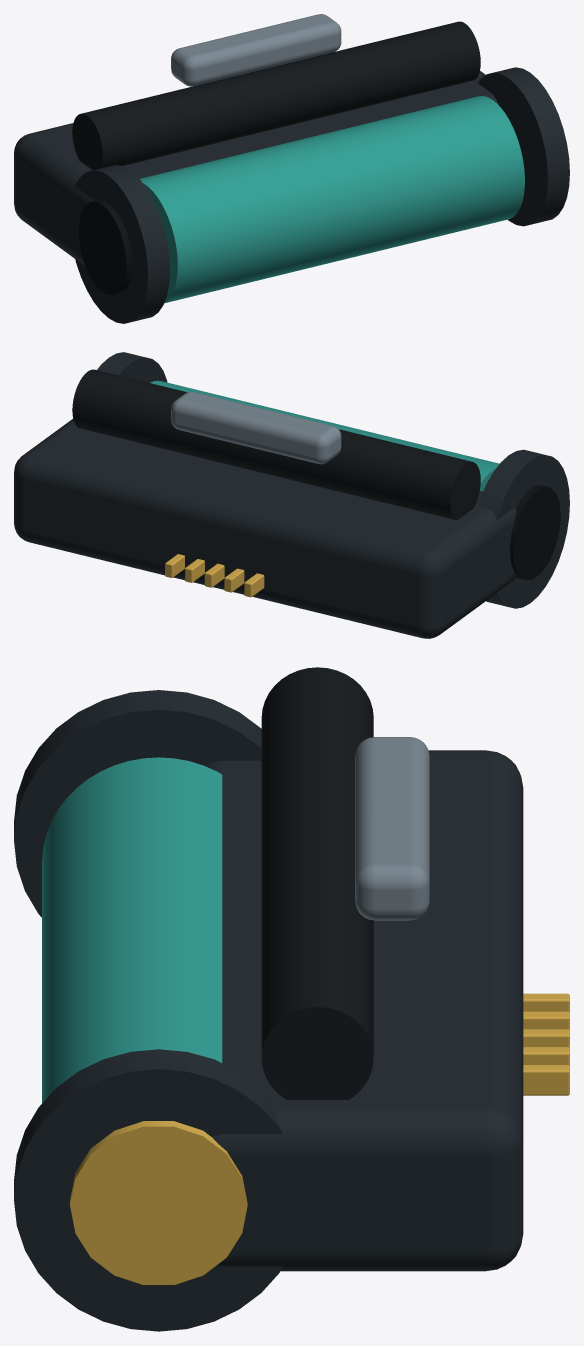
The model's file is printer-drum-unit.glb.
3 views of the same model, one above another, from view 1: azimuth 30°, elevation 25°; view 2: azimuth 150°, elevation 25°; view 3: azimuth 270°, elevation 25° (orthographic). The views are drawn at different scales.
Visible parts, largest first — view 1: Photoconductor drum, Primary charge roller, Drum bearing (×2), Drum cartridge chassis, Removal handle, Drive gear; view 2: Drum cartridge chassis, Primary charge roller, Drum bearing (×2), Removal handle, Drive gear, Photoconductor drum, Electrical contact (×3); view 3: Drum cartridge chassis, Drum bearing (×2), Photoconductor drum, Primary charge roller, Drive gear, Removal handle, Electrical contact (×5).
Boxes of the visible parts, x1,y1,x2,y2 form: Photoconductor drum: (140, 96, 524, 303); Primary charge roller: (72, 21, 480, 170); Drum bearing (×2): (75, 67, 569, 323); Drum cartridge chassis: (14, 71, 498, 265); Removal handle: (171, 14, 341, 86); Drive gear: (78, 200, 132, 295); Drum cartridge chassis: (14, 419, 516, 638); Primary charge roller: (72, 369, 480, 520); Drum bearing (×2): (97, 352, 569, 608); Removal handle: (171, 391, 341, 464); Drive gear: (510, 485, 560, 579); Photoconductor drum: (150, 380, 499, 491); Electrical contact (×3): (204, 563, 264, 597); Drum cartridge chassis: (204, 750, 523, 1271); Drum bearing (×2): (14, 690, 282, 1331); Photoconductor drum: (42, 757, 222, 1103); Primary charge roller: (261, 667, 373, 1099); Drive gear: (70, 1121, 247, 1284); Removal handle: (355, 737, 429, 920); Electrical contact (×5): (523, 993, 569, 1095).
Bounding box in the file's own units: 1.98 × 0.805 × 1.19.
